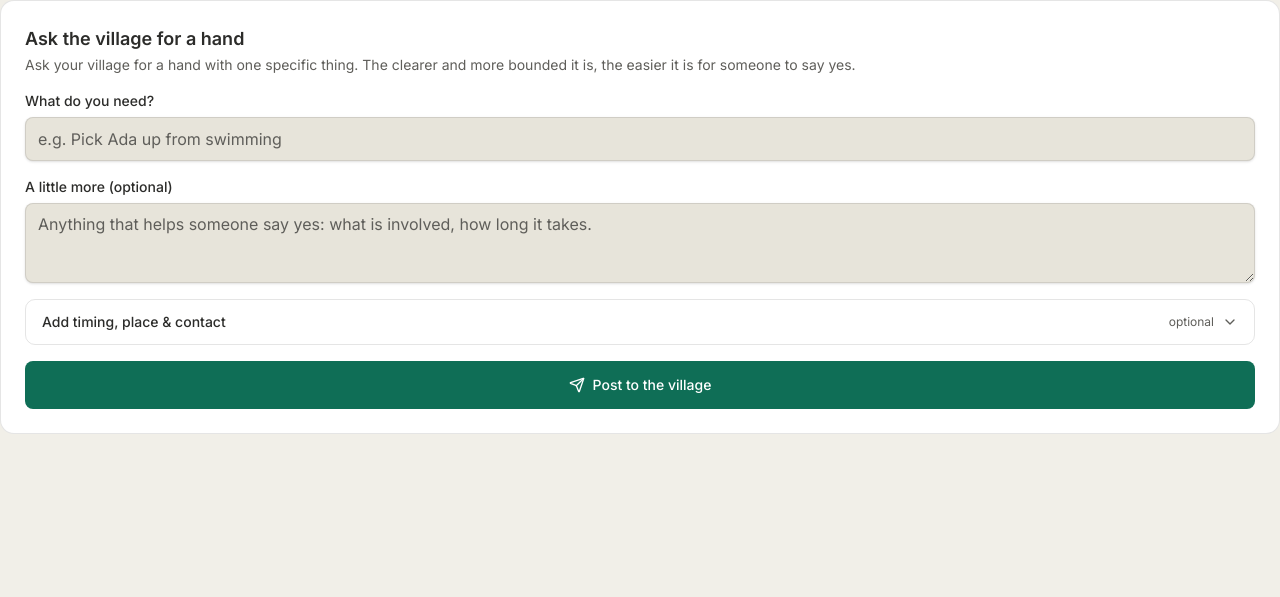
PostNeedForm › posts the recipient_id + trimmed title and renders the api's GOVERNED confirmation verbatim
Type "  Pick Ada up from swimming  " into the field labelled "What do you need?".
click(640, 139); type("  Pick Ada up from swimming  ")  # box x1=25 y1=117 x2=1255 y2=161
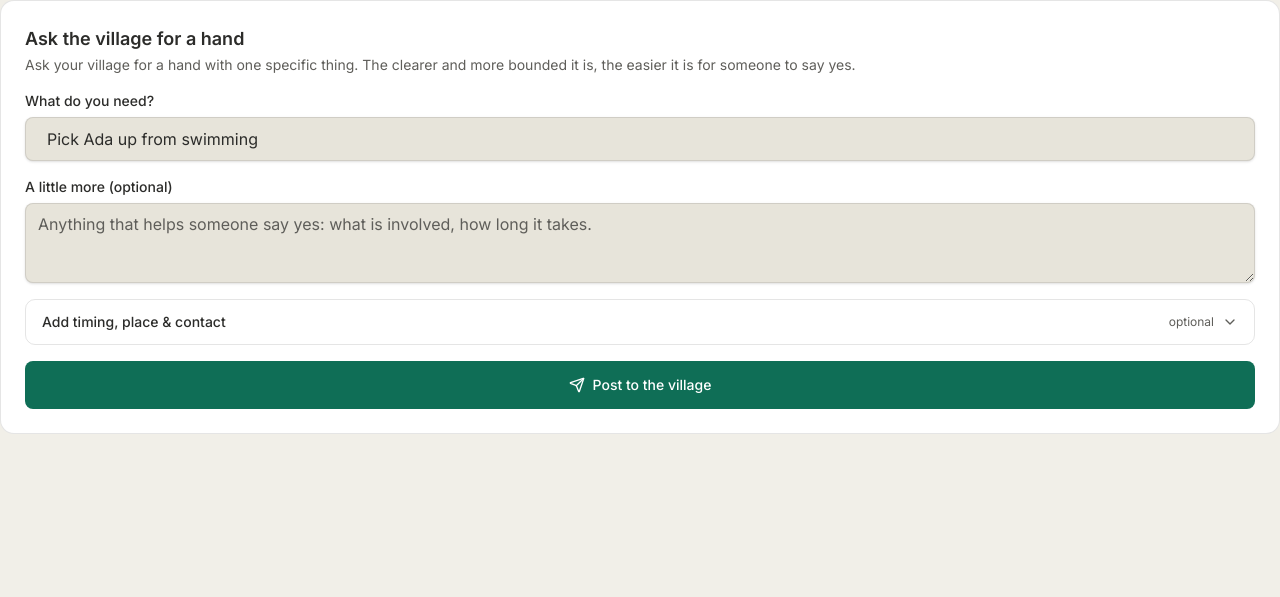
Click the button "Post to the village".
click(640, 385)  # box x1=25 y1=361 x2=1255 y2=409
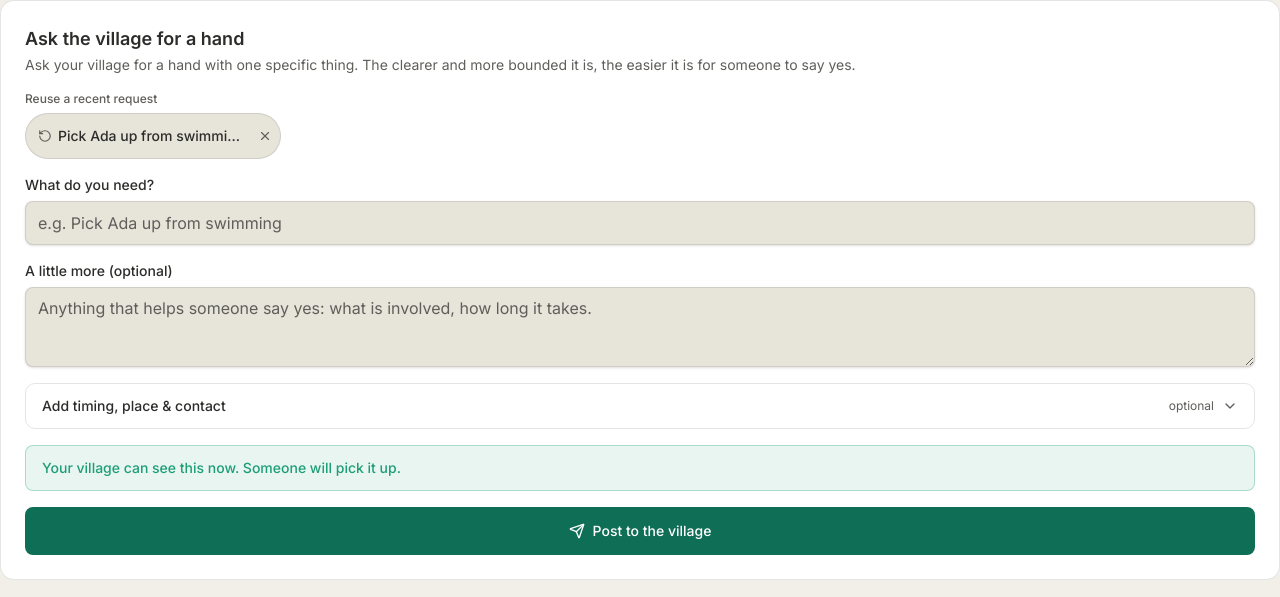
Now the text "Your village can see this now. Someone will pick it up." is shown, box x1=25 y1=445 x2=1255 y2=491
